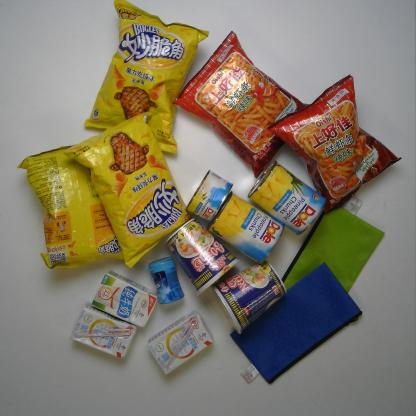Canned Food: (246, 160, 327, 235), (206, 190, 285, 264), (186, 169, 234, 224)
Gum: (148, 256, 184, 306)
Instant Noodles: (165, 217, 240, 297), (210, 260, 288, 335)
Milk: (146, 310, 214, 375), (91, 269, 159, 328), (70, 301, 138, 360)
Puffed Food: (62, 109, 193, 270), (171, 30, 308, 178), (82, 0, 211, 155), (268, 72, 402, 215), (16, 144, 124, 272)
Stationery: (229, 262, 363, 384), (281, 196, 386, 293)
